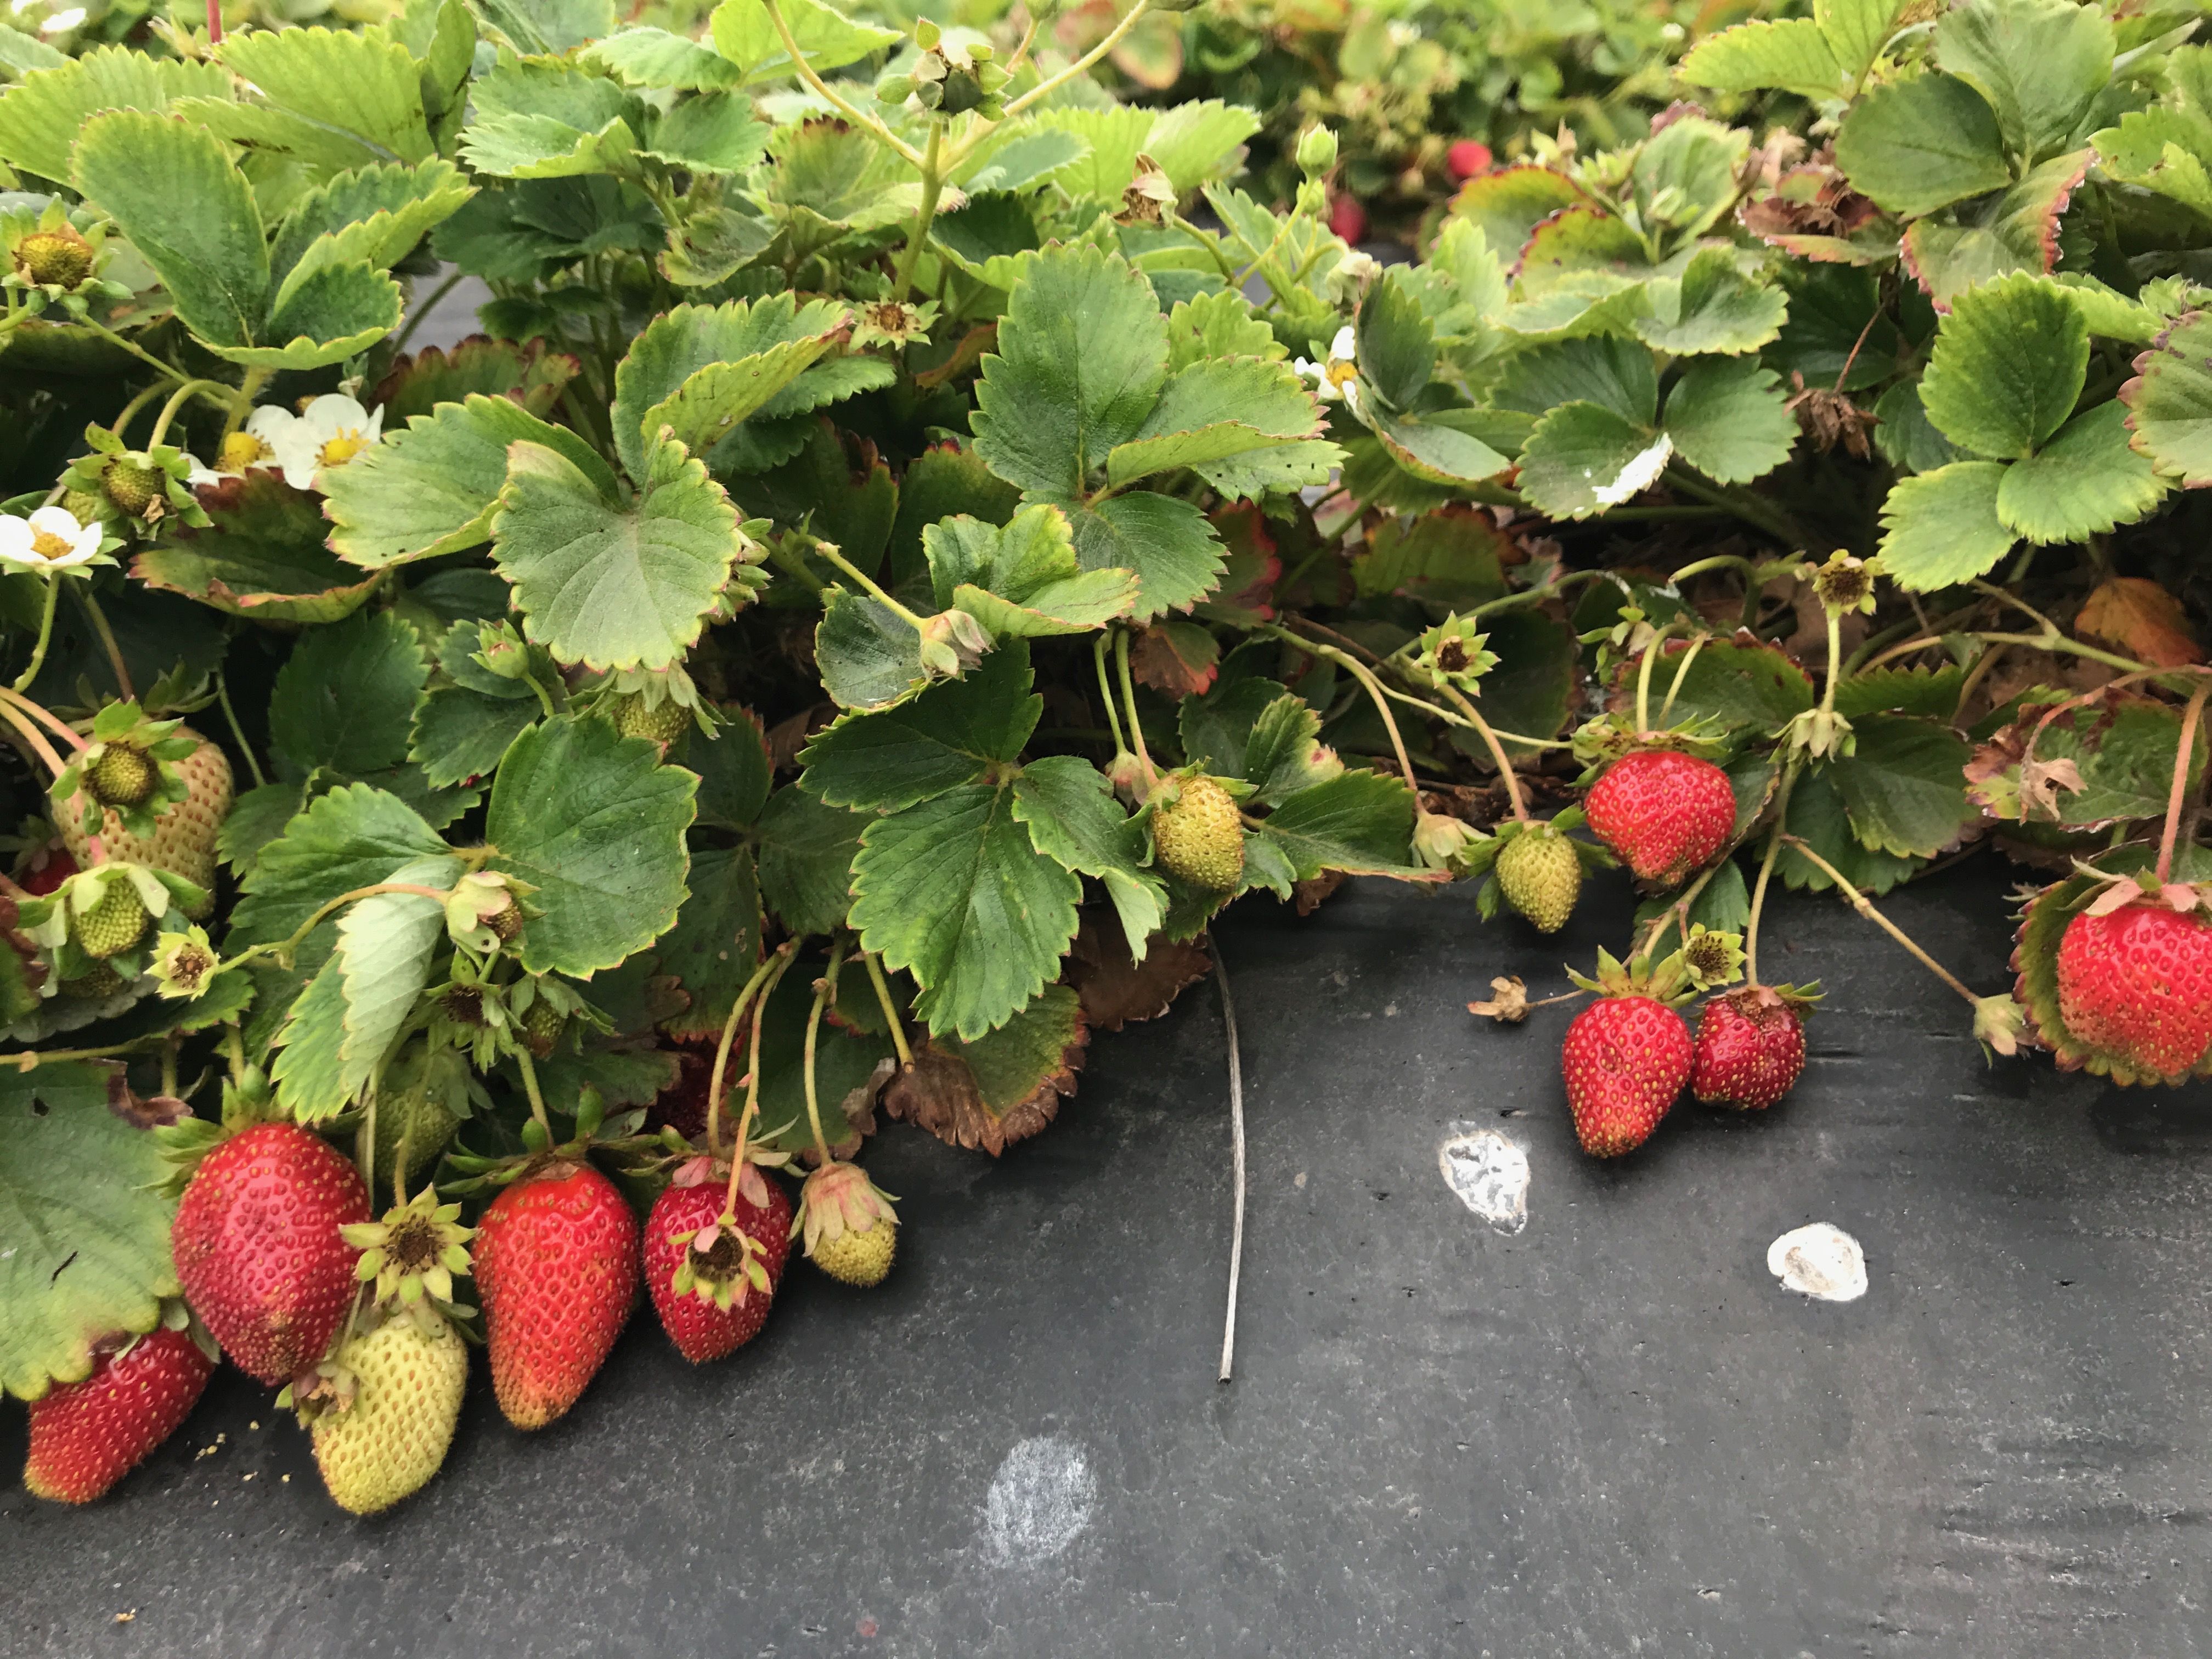ripe_strawberry: (164, 1110, 378, 1391), (469, 1140, 639, 1436), (21, 1319, 214, 1509), (643, 1150, 798, 1371), (2054, 880, 2212, 1084), (1575, 734, 1743, 899), (1557, 986, 1696, 1164), (1691, 985, 1815, 1117)
unripe_strawberry: (44, 708, 237, 922), (305, 1291, 479, 1518), (1141, 765, 1252, 894), (798, 1164, 909, 1290), (1487, 812, 1587, 936), (66, 863, 160, 962), (610, 669, 702, 762), (80, 734, 164, 817), (12, 228, 99, 298), (99, 450, 165, 518)
